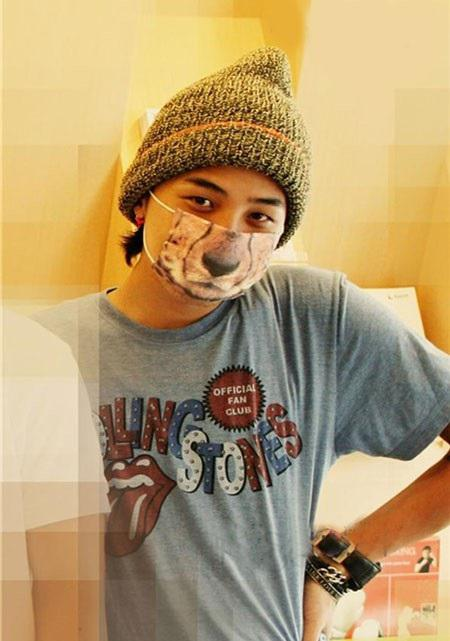OK: (159, 175, 289, 305)
